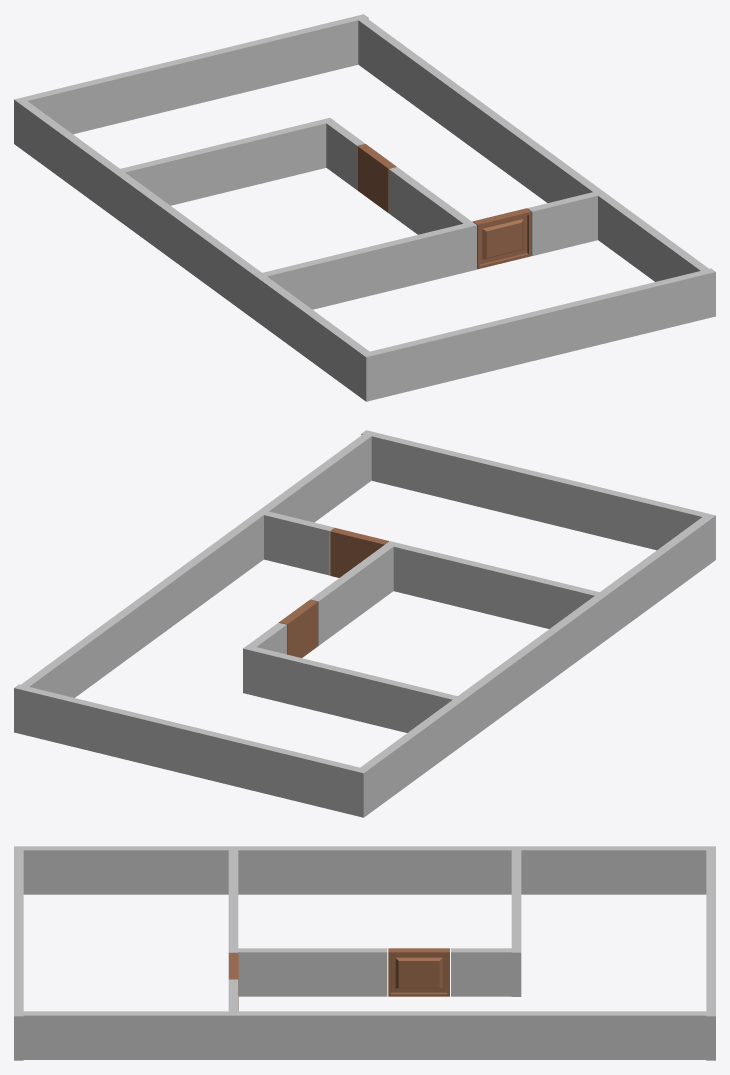
File: Room.fbx
The picture shows the model from 3 angles, top to bottom: view 1: azimuth 30°, elevation 25°; view 2: azimuth 150°, elevation 25°; view 3: azimuth 270°, elevation 25°; orthographic projection.
Visible parts, largest first — view 1: Cube_11; view 2: Cube_11; view 3: Cube_11.
Boxes of the visible parts, <box> form: Cube_11: <box>14,14,715,401</box>; Cube_11: <box>14,430,715,817</box>; Cube_11: <box>14,846,715,1060</box>.
Bounding box in the file's own units: 3759 × 457 × 6556.
